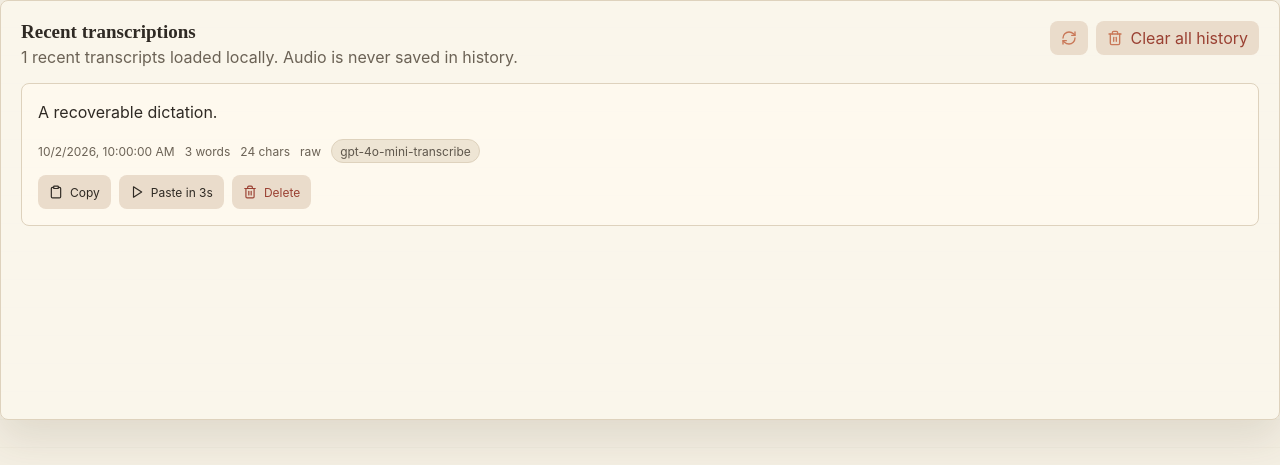
Test: history deletion › does not delete any history until the user confirms
Step 1. Click the button "Clear all history" → (1178, 38), box [1096,21,1259,55]
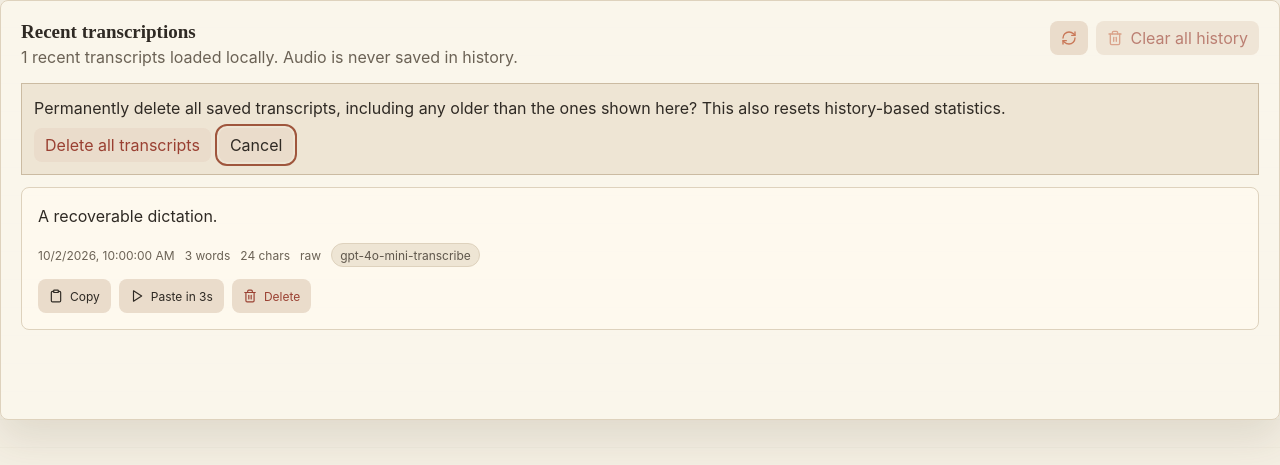
Step 2. Click the button "Cancel" → (256, 145), box [219,128,293,162]
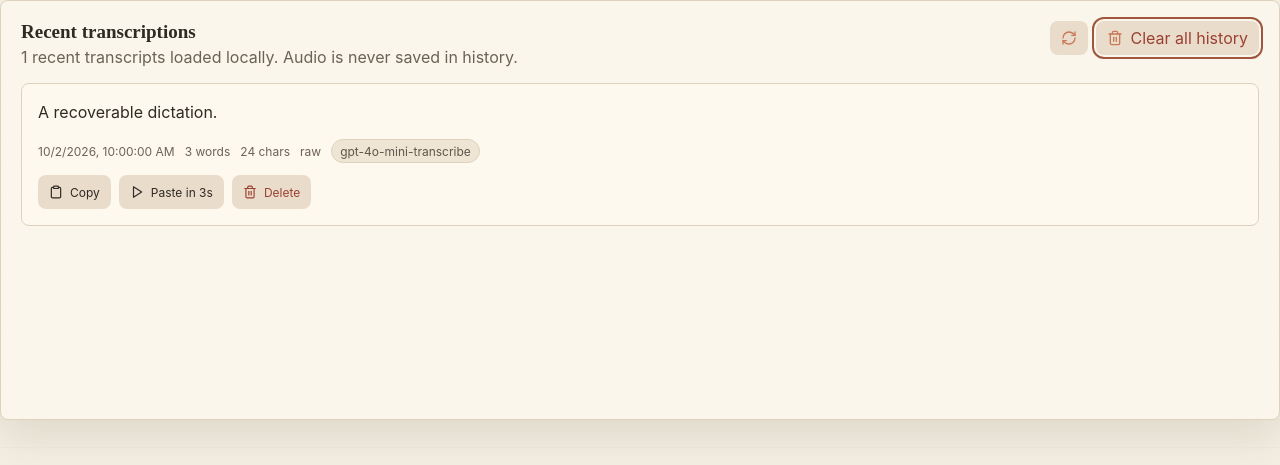
Step 3. Click the button "Clear all history" → (1178, 38), box [1096,21,1259,55]
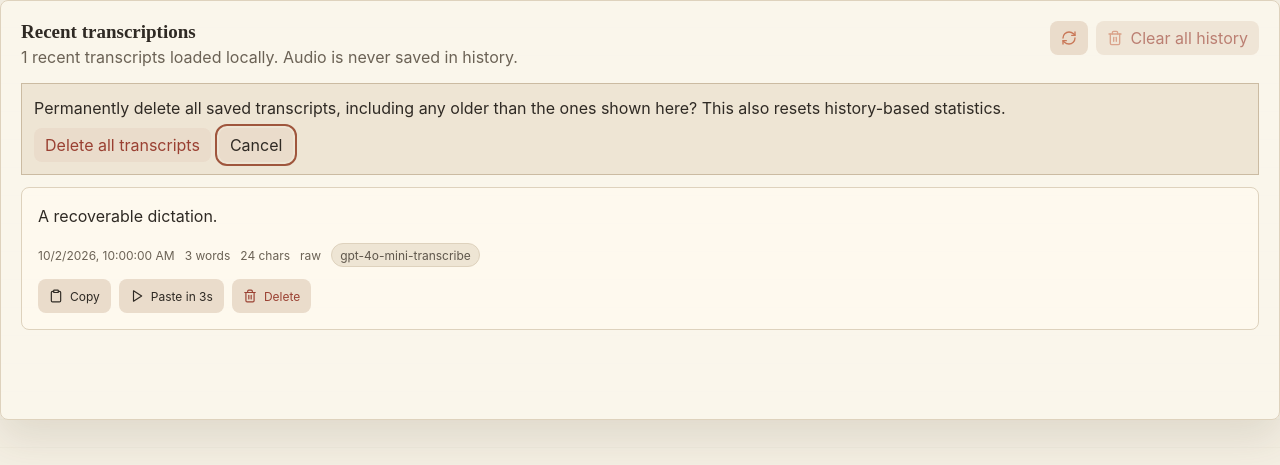
Step 4. Click the button "Delete all transcripts" → (122, 145), box [34,128,211,162]
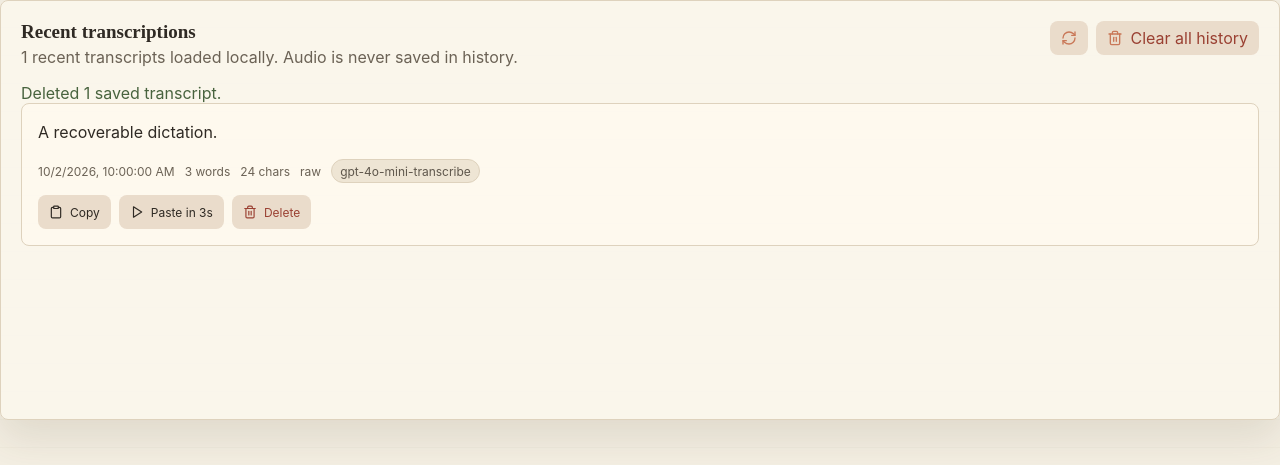
Check: the message reads "Deleted 1 saved transcript.", box [21,83,221,103]
